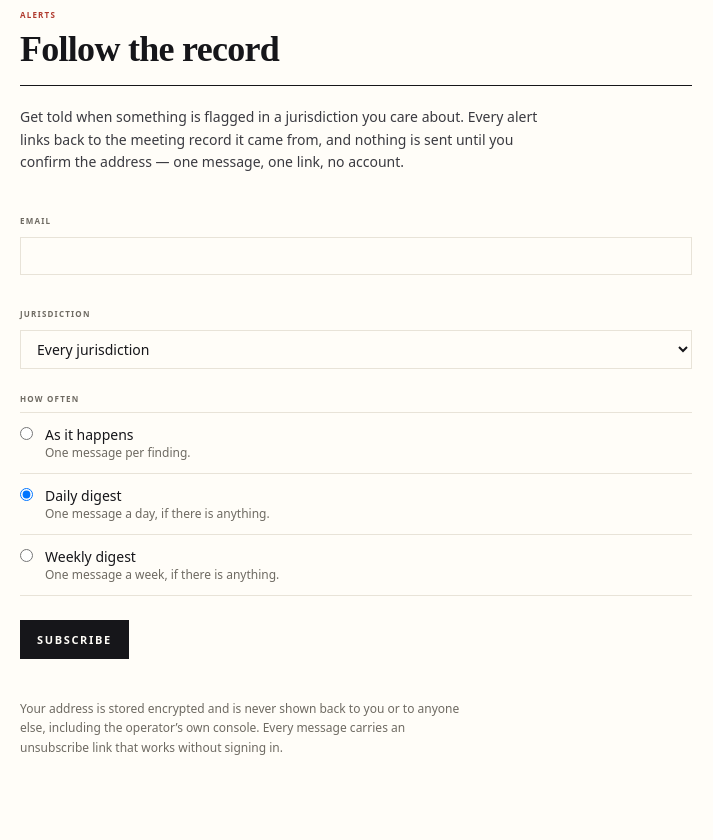
SubscribePage › surfaces the API's reason for a rejection rather than a blank failure
In the field labelled "Email": {"x": 356, "y": 256} [20,237,692,275], type "reader@example.invalid"
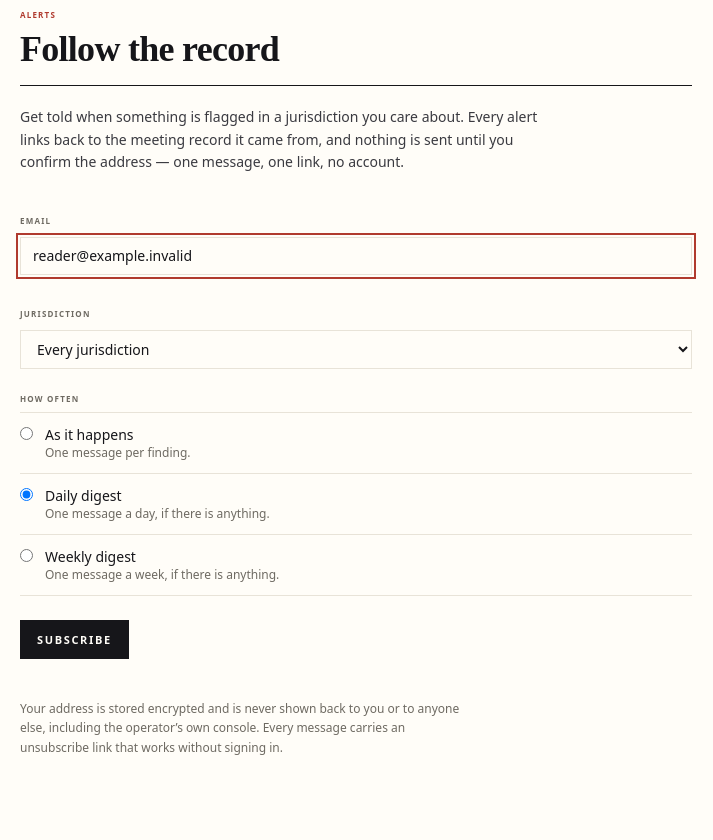
Click the button "Subscribe": {"x": 74, "y": 639} [20,620,129,659]
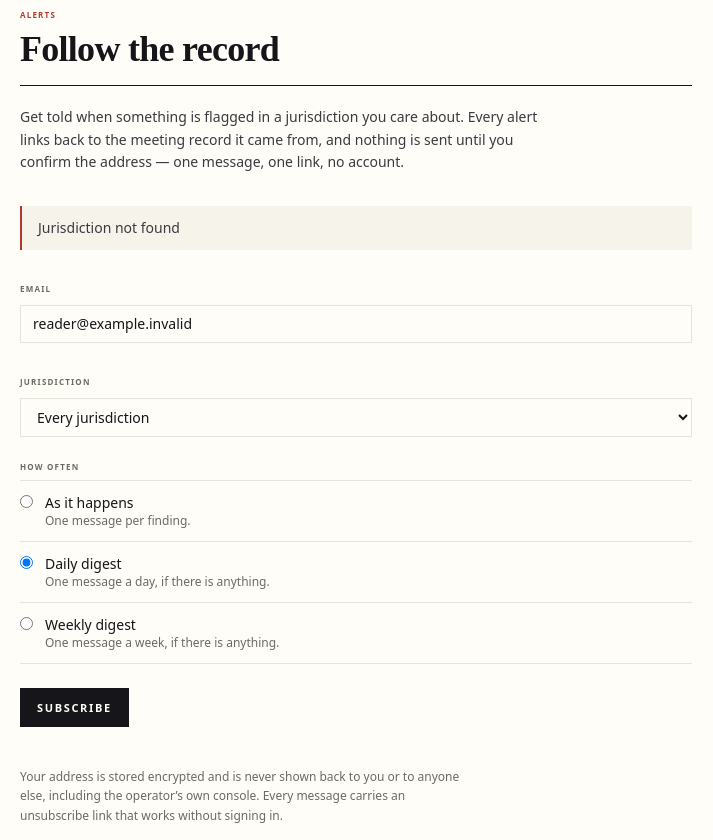
Result: the message reads "Jurisdiction not found" at [38,218,180,237]
